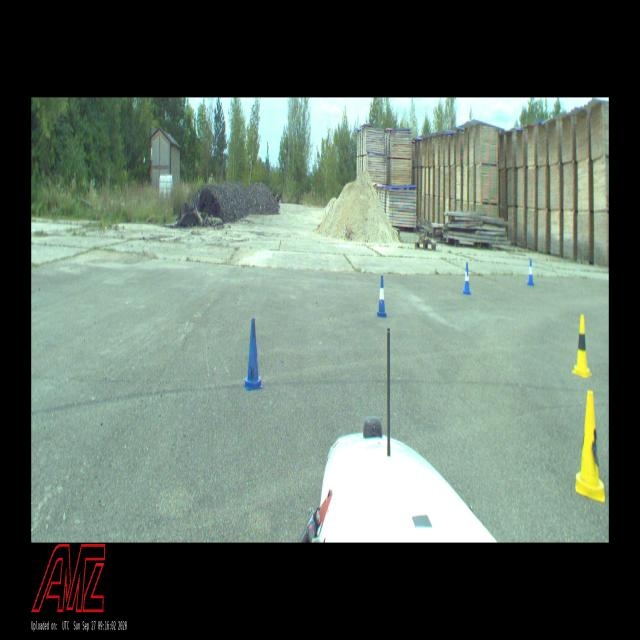blue_cone: (244, 319, 263, 388), (378, 276, 387, 316), (464, 263, 471, 294), (528, 259, 534, 284)
yellow_cone: (576, 391, 604, 503), (573, 316, 591, 378)
